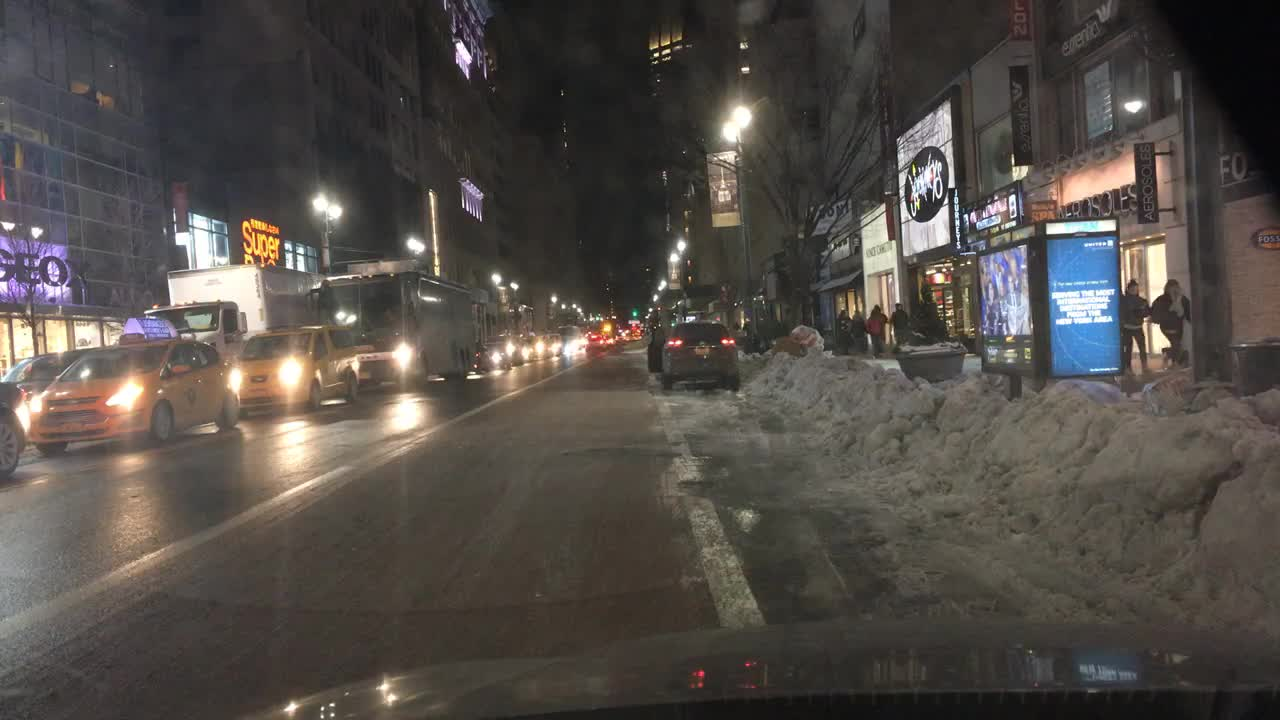bus: (310, 269, 478, 380)
car: (30, 317, 237, 455), (235, 325, 361, 411), (5, 354, 89, 443), (646, 318, 740, 392), (2, 380, 27, 479), (479, 339, 502, 365), (502, 337, 521, 365), (561, 332, 579, 360), (540, 333, 559, 358), (521, 340, 542, 360), (579, 332, 593, 351), (615, 327, 628, 343), (598, 334, 615, 345)
person: (1123, 276, 1153, 373), (1151, 282, 1184, 360), (866, 313, 887, 353), (852, 310, 864, 355), (836, 308, 848, 346), (894, 303, 908, 332)
truck: (139, 262, 324, 355)
